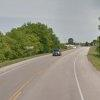Tree: (7, 12, 52, 57)
